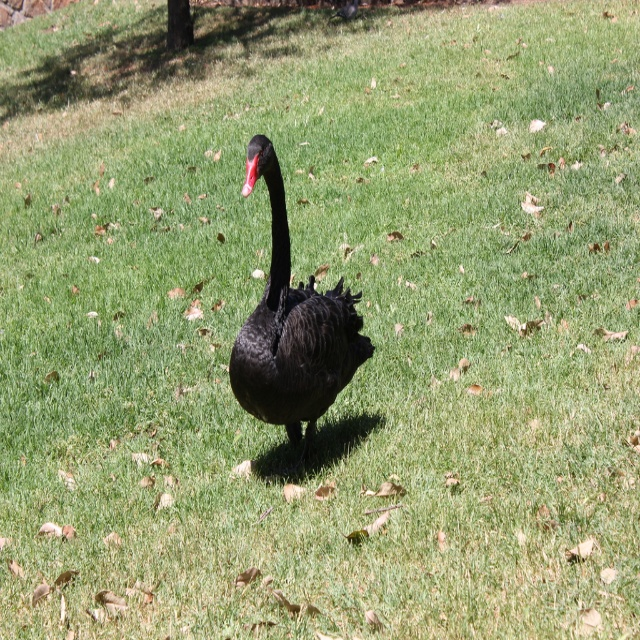Goose: (228, 133, 376, 471)
